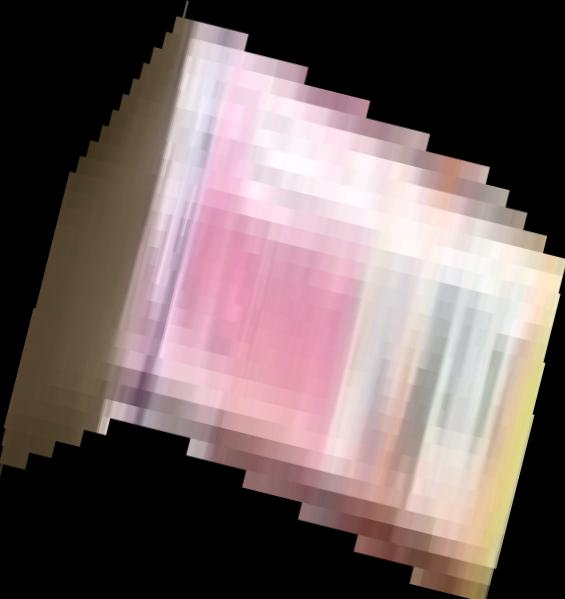flat: (1, 1, 565, 599)
